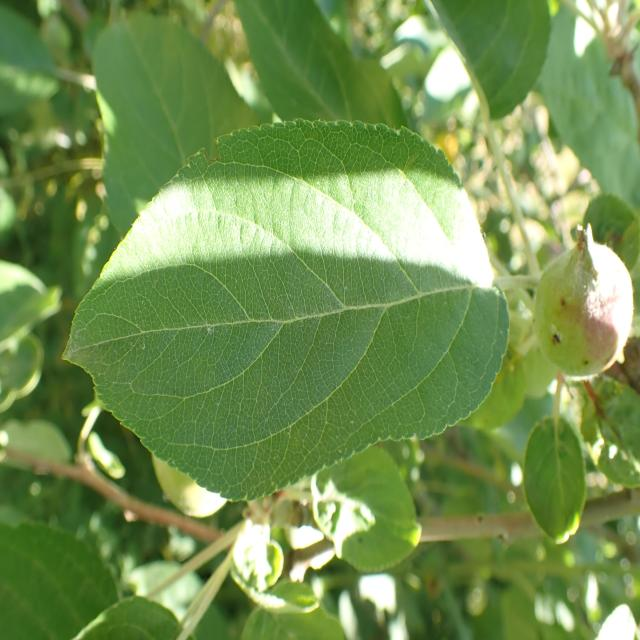healthy: (61, 118, 510, 504), (92, 10, 258, 238), (236, 0, 410, 129), (427, 0, 550, 121), (0, 517, 121, 640), (312, 446, 422, 573), (524, 415, 586, 546), (238, 581, 348, 640), (70, 595, 195, 640)
